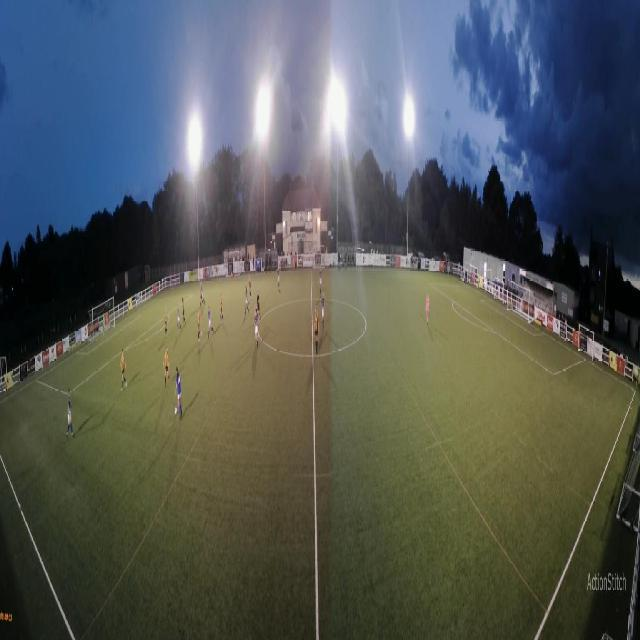ball: (174, 406, 177, 416)
player: (66, 388, 75, 439), (175, 366, 183, 418), (163, 346, 171, 388), (120, 350, 127, 392), (314, 306, 320, 355), (208, 306, 214, 340), (198, 306, 203, 343), (255, 308, 259, 349), (321, 292, 325, 333), (244, 285, 249, 315), (426, 291, 430, 326), (177, 304, 182, 330), (200, 284, 205, 309), (257, 290, 261, 321), (220, 294, 224, 324), (164, 309, 168, 338), (182, 297, 186, 325), (248, 273, 252, 301), (200, 282, 205, 304), (102, 313, 106, 337), (319, 265, 322, 297), (277, 265, 280, 289), (254, 304, 256, 330)
